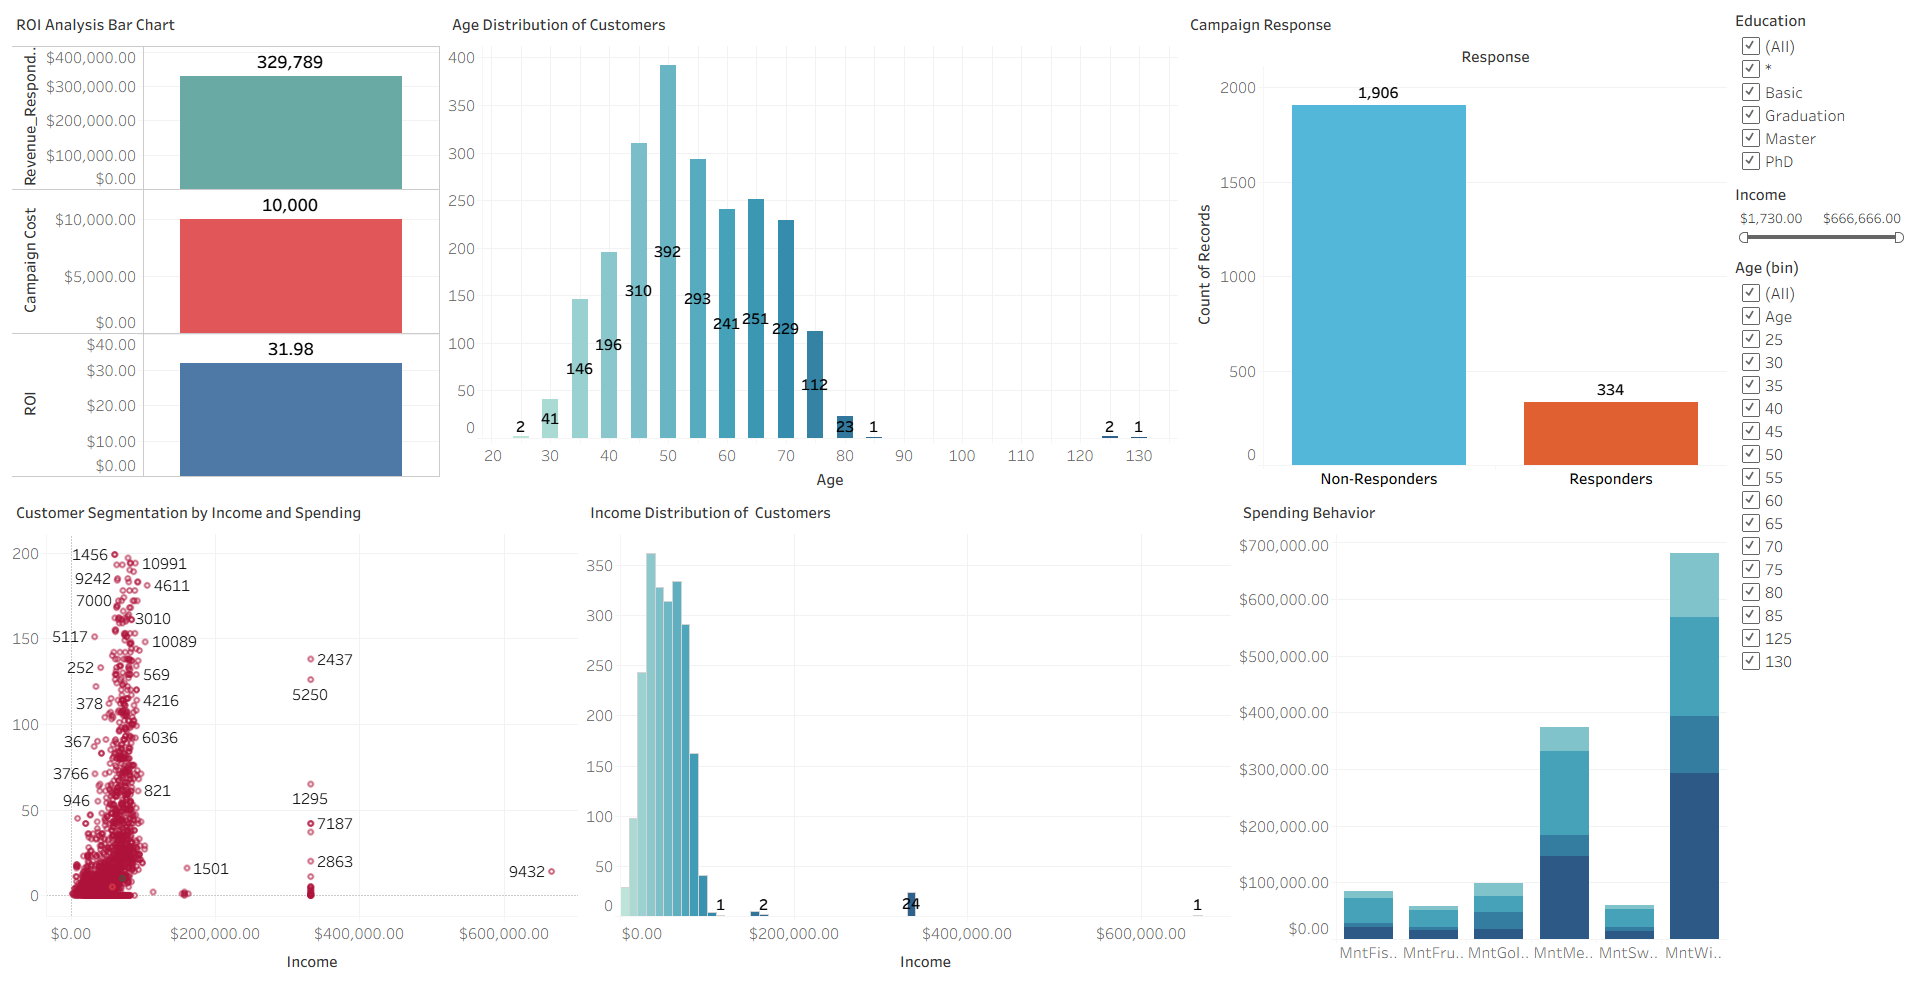

What the dashboard file says about the page in this screenshot:
{"tool":"tableau","page":{"name":"Dashboard 1","canvas":[1000,1000],"units":"permille","ordinal":0},"visuals":[{"type":"worksheet","title":" ROI Analysis Bar Chart","mark":"Automatic","rows":["Calculation_922675022919811083","Calculation_922675022828920832","Calculation_922675022920630284"],"box":[6.9,14.7,214.7,485.3]},{"type":"worksheet","title":"Age Distribution of Customers","mark":"Automatic","rows":["Calculation_1650287837226504192"],"cols":["Age (bin)"],"box":[221.7,14.7,420.7,485.3]},{"type":"worksheet","title":"Campaign Response Counts","mark":"Bar","rows":["Calculation_1650287837226504192"],"cols":["Response"],"box":[642.4,14.7,257.1,485.3]},{"type":"filter","title":"Customer Segmentation by Income and Spending","param":"[federated.0i9hh181elbazp16cxb781jbqcvk].[attr:Education:nk]","box":[899.6,14.7,93.5,268.4]},{"type":"filter","title":"Customer Segmentation by Income and Spending","param":"[federated.0i9hh181elbazp16cxb781jbqcvk].[none:Income:qk]","box":[899.6,283.1,93.5,126.8]},{"type":"filter","title":"Age Distribution of Customers","param":"[federated.0i9hh181elbazp16cxb781jbqcvk].[none:Age (bin):ok]","box":[899.6,409.9,93.5,575.4]},{"type":"worksheet","title":"Customer Segmentation by Income and Spending","mark":"Automatic","rows":["MntFruits"],"cols":["Income"],"box":[6.9,500,240.5,485.3]},{"type":"worksheet","title":"Income Distribution of Customers","mark":"Automatic","rows":["Calculation_1650287837226504192"],"cols":["Income (bin)"],"box":[247.4,500,395,485.3]},{"type":"worksheet","title":"Spending Behavior Bar Chart","mark":"Automatic","rows":["Pivot Field Values"],"cols":["Pivot Field Names"],"box":[642.4,500,257.1,485.3]}]}

Visuals, with their boxes on the dashboard's canvas, which has no fixed pixel size, in thousandths of its width and height (x1, y1, x2, y2). These are canvas units, not pixel positions in the 1919x981 screenshot, which may show the page scaled, cropped or inside an application window:
" ROI Analysis Bar Chart" worksheet: x1=7, y1=15, x2=222, y2=500
"Age Distribution of Customers" worksheet: x1=222, y1=15, x2=642, y2=500
"Campaign Response Counts" worksheet (Bar marks): x1=642, y1=15, x2=900, y2=500
"Customer Segmentation by Income and Spending" filter: x1=900, y1=15, x2=993, y2=283
"Customer Segmentation by Income and Spending" filter: x1=900, y1=283, x2=993, y2=410
"Age Distribution of Customers" filter: x1=900, y1=410, x2=993, y2=985
"Customer Segmentation by Income and Spending" worksheet: x1=7, y1=500, x2=247, y2=985
"Income Distribution of Customers" worksheet: x1=247, y1=500, x2=642, y2=985
"Spending Behavior Bar Chart" worksheet: x1=642, y1=500, x2=900, y2=985
